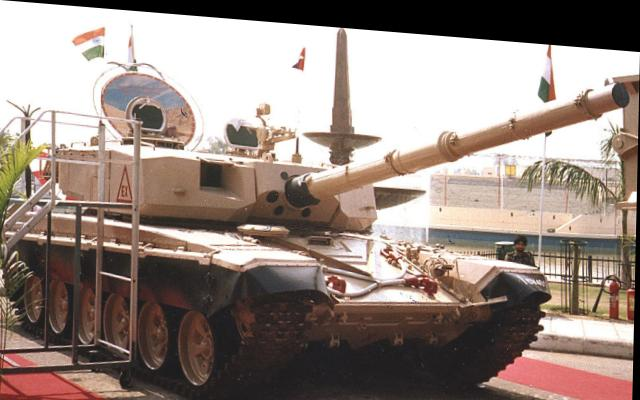other: (506, 224, 535, 253)
tank: (15, 68, 534, 392)
